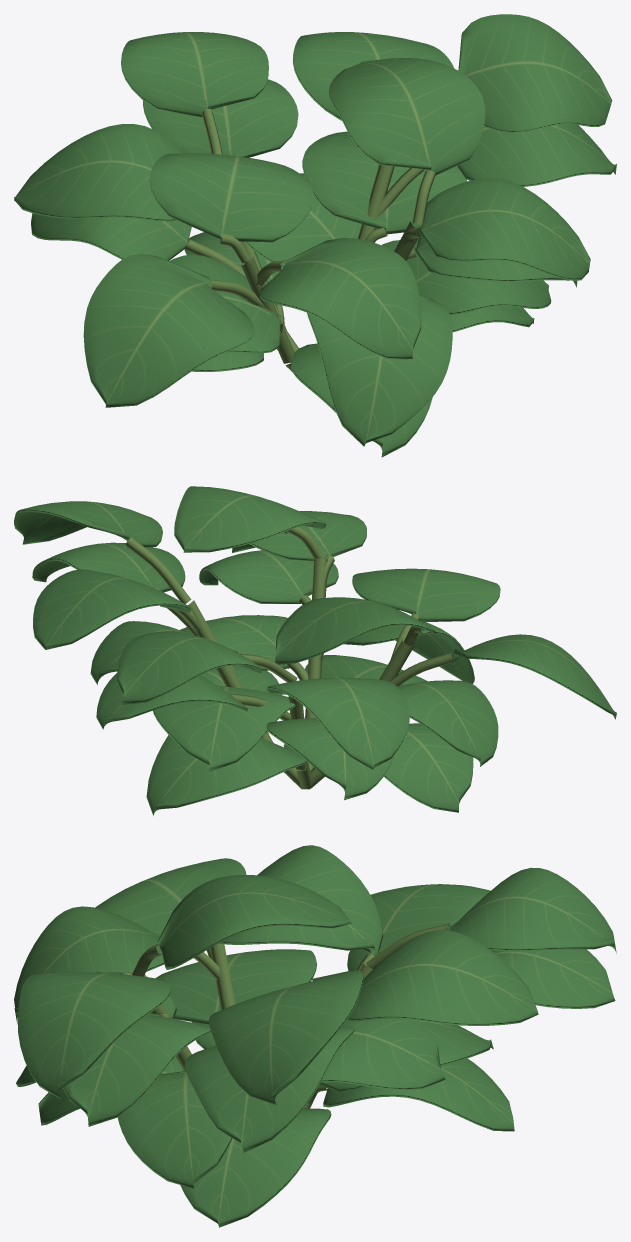
Rendered from peperomia-stage-5.glb.
3 views of the same model, one above another, from view 1: azimuth 30°, elevation 25°; view 2: azimuth 150°, elevation 25°; view 3: azimuth 270°, elevation 25° (orthographic). The views are drawn at different scales.
Parts seen in each view (by area): view 1: Leaf_11, Leaf_20, Leaf_21, Leaf_15, Leaf_16, Leaf_19, Leaf_8, Leaf_14, Leaf_18, Leaf_9, Leaf_13, PlantBranches (+11 smaller); view 2: Leaf_14, PlantBranches, Leaf_17, Leaf_20, Leaf_5, Leaf_2, Leaf_18, Leaf_15, Leaf_19, Leaf_7, Leaf_3, Leaf_12 (+11 smaller); view 3: Leaf_17, Leaf_16, Leaf_21, Leaf_20, Leaf_18, Leaf_4, Leaf_1, Leaf_12, Leaf_19, Leaf_13, Leaf_15, Leaf_9 (+8 smaller).
Boxes of the visible parts, left/top/right/bottom form: Leaf_11: left=83, top=254, right=254, bottom=407; Leaf_20: left=328, top=58, right=485, bottom=175; Leaf_21: left=458, top=14, right=612, bottom=132; Leaf_15: left=260, top=238, right=421, bottom=359; Leaf_16: left=419, top=178, right=590, bottom=280; Leaf_19: left=149, top=153, right=313, bottom=242; Leaf_8: left=307, top=294, right=452, bottom=446; Leaf_14: left=14, top=124, right=182, bottom=221; Leaf_18: left=121, top=32, right=268, bottom=117; Leaf_9: left=302, top=131, right=466, bottom=234; Leaf_13: left=457, top=124, right=616, bottom=186; PlantBranches: left=185, top=108, right=435, bottom=371; Leaf_14: left=267, top=677, right=409, bottom=769; PlantBranches: left=125, top=527, right=455, bottom=789; Leaf_17: left=33, top=569, right=190, bottom=649; Leaf_20: left=174, top=486, right=326, bottom=552; Leaf_5: left=153, top=686, right=295, bottom=771; Leaf_2: left=146, top=735, right=306, bottom=815; Leaf_18: left=116, top=631, right=262, bottom=704; Leaf_15: left=352, top=568, right=500, bottom=622; Leaf_19: left=275, top=597, right=435, bottom=664; Leaf_7: left=397, top=680, right=498, bottom=766; Leaf_3: left=384, top=723, right=473, bottom=812; Leaf_12: left=199, top=550, right=338, bottom=603; Leaf_17: left=347, top=930, right=538, bottom=1025; Leaf_16: left=17, top=971, right=171, bottom=1098; Leaf_21: left=208, top=970, right=363, bottom=1105; Leaf_20: left=157, top=875, right=351, bottom=969; Leaf_18: left=446, top=867, right=616, bottom=952; Leaf_4: left=117, top=1071, right=232, bottom=1188; Leaf_1: left=180, top=1108, right=331, bottom=1227; Leaf_12: left=63, top=1013, right=211, bottom=1126; Leaf_19: left=219, top=845, right=383, bottom=957; Leaf_13: left=184, top=1026, right=354, bottom=1152; Leaf_15: left=14, top=906, right=164, bottom=1023; Leaf_9: left=321, top=1018, right=445, bottom=1090.
Size of the model in its own units: 2.08 by 1.01 by 1.8.
Materials: 2 (1 with a texture image).
